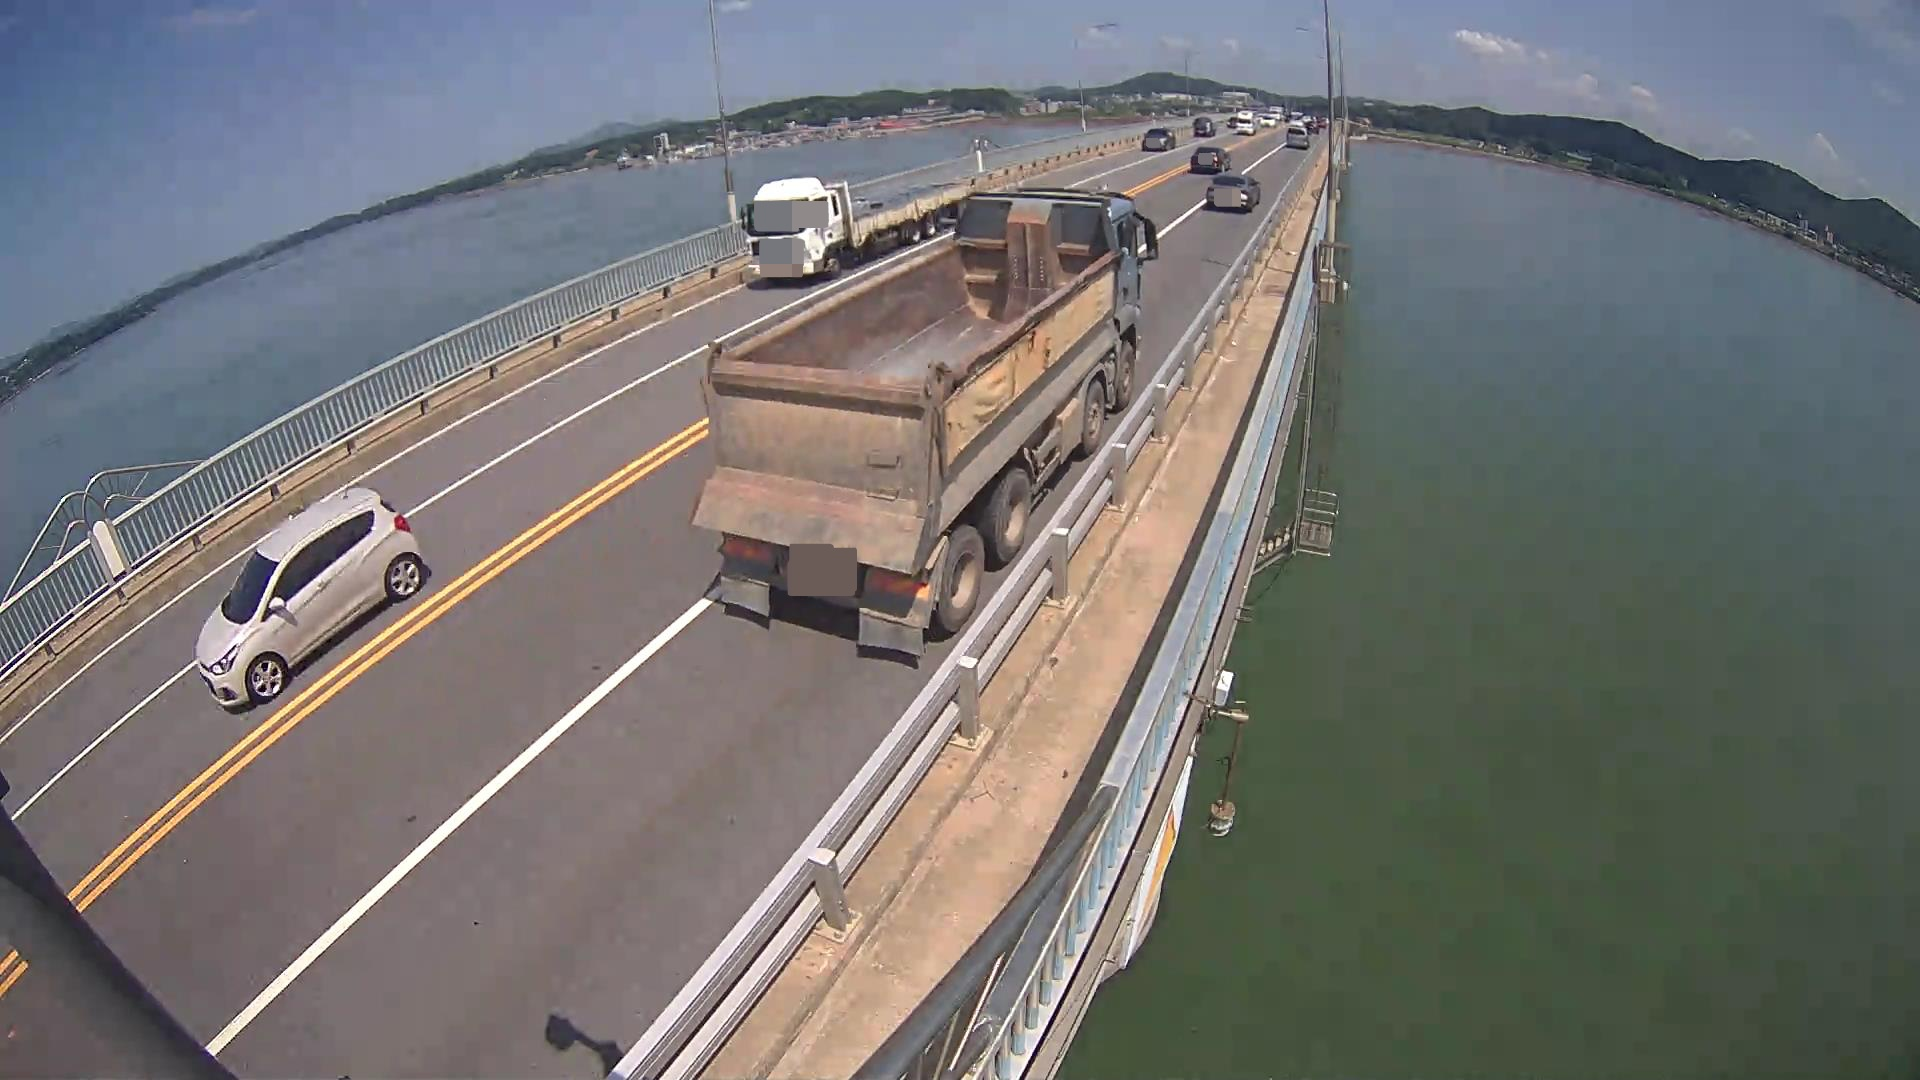정상차량: (686, 181, 1161, 659)
